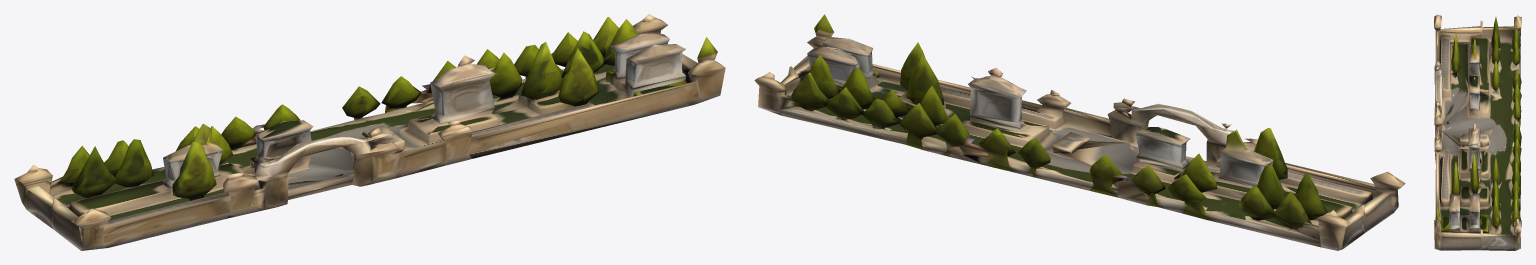
The model's file is BD_Cemetery.fbx.
3 views of the same model, side by side, from view 1: azimuth 30°, elevation 25°; view 2: azimuth 150°, elevation 25°; view 3: azimuth 270°, elevation 25° (orthographic). The views are drawn at different scales.
Parts seen in each view (by area): view 1: model; view 2: model; view 3: model.
Boxes of the visible parts, <box> form: model: <box>14,14,725,250</box>; model: <box>754,14,1405,250</box>; model: <box>1434,14,1521,250</box>.
Bounding box in the file's own units: 70 × 12 × 8.
1 material, 1 textured.
